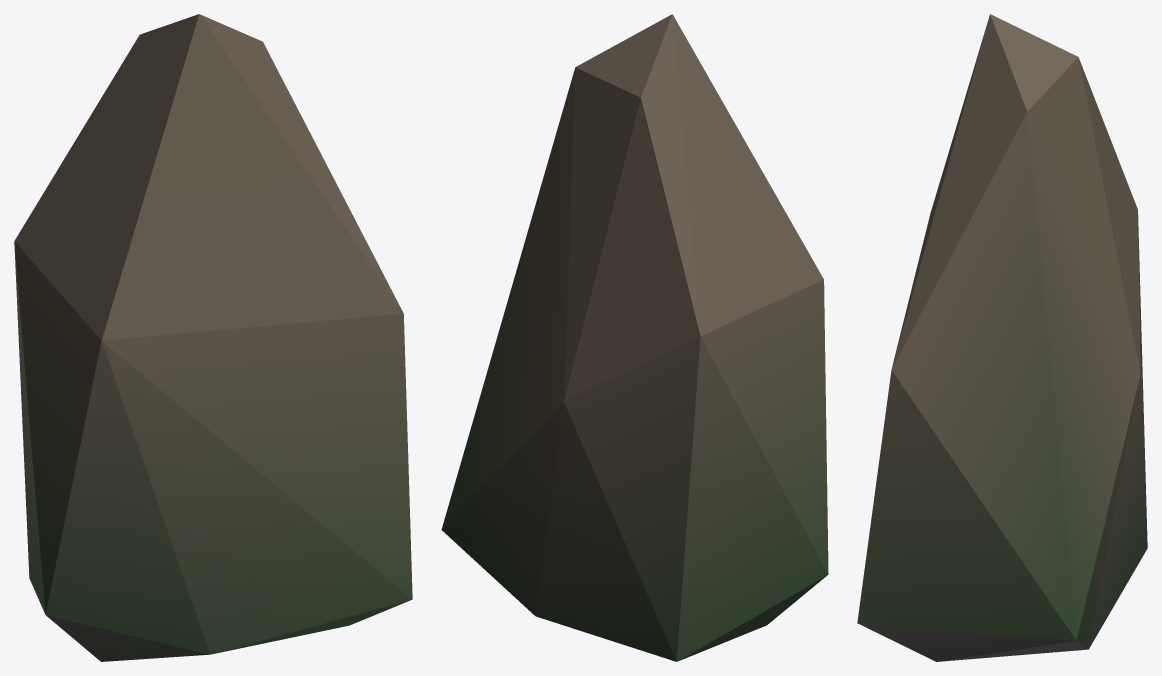
Rendered from Stone_01.fbx.
The picture shows the model from 3 angles, left to right: view 1: azimuth 30°, elevation 25°; view 2: azimuth 150°, elevation 25°; view 3: azimuth 270°, elevation 25°; orthographic projection. The views are drawn at different scales.
Visible parts, largest first — view 1: Stone_01; view 2: Stone_01; view 3: Stone_01.
Boxes of the visible parts, bbox=[...] form: Stone_01: bbox=[14, 14, 412, 661]; Stone_01: bbox=[441, 14, 828, 661]; Stone_01: bbox=[857, 14, 1147, 661].
Bounding box in the file's own units: 789 × 1312 × 582.
